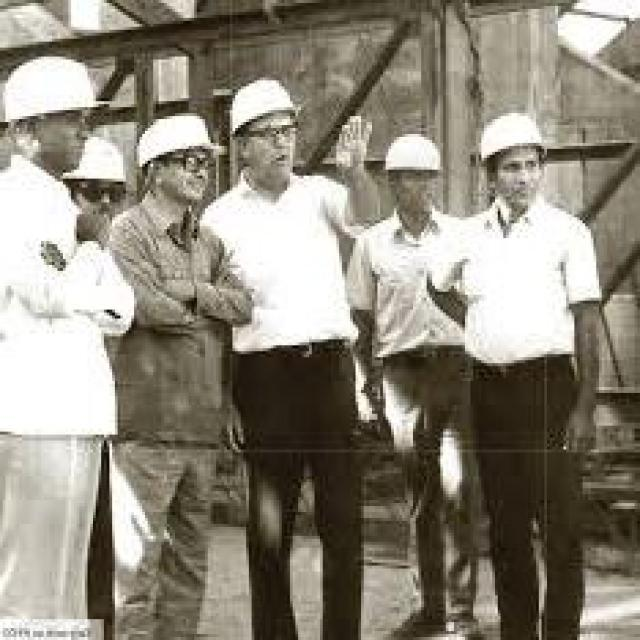safety_helmet: (0, 49, 109, 134), (131, 104, 224, 172), (467, 101, 555, 172), (224, 68, 303, 139), (59, 127, 134, 193), (374, 125, 451, 184)
